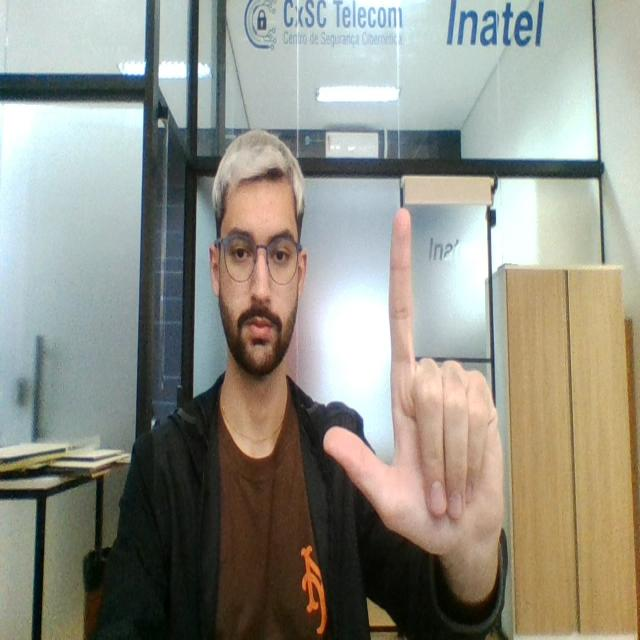L: (322, 188, 509, 582)
